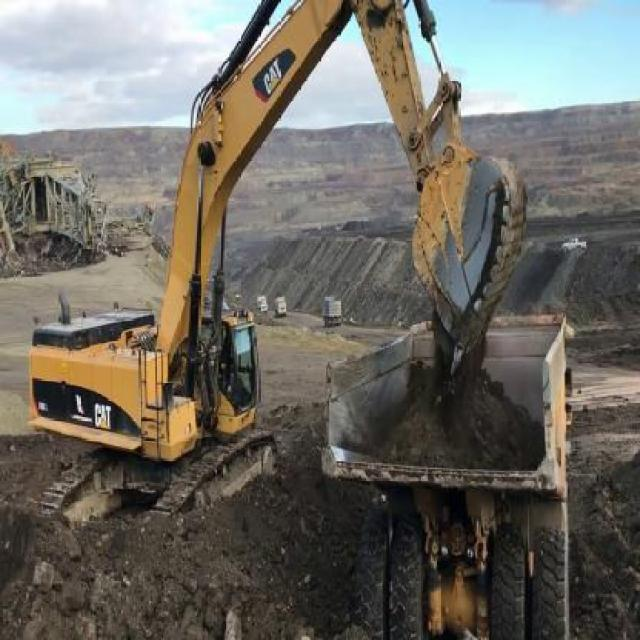Dump Truck: (318, 314, 574, 638)
Excavator: (20, 0, 531, 525)
